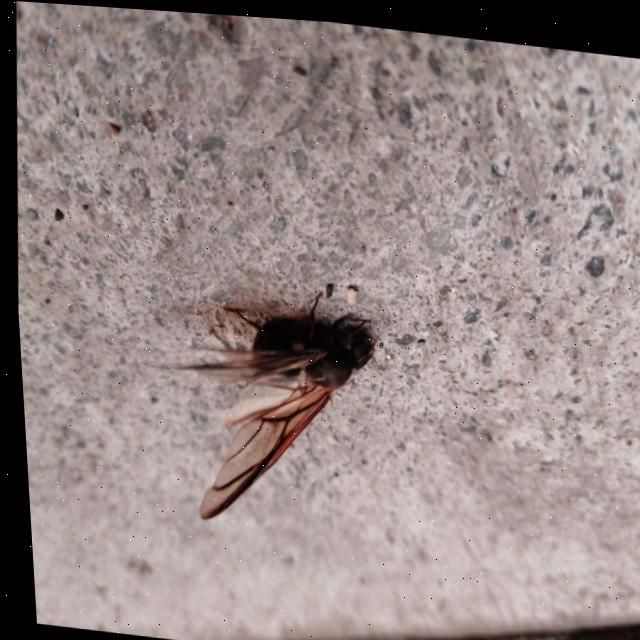Alive-Female-Alate: (125, 266, 384, 536)
